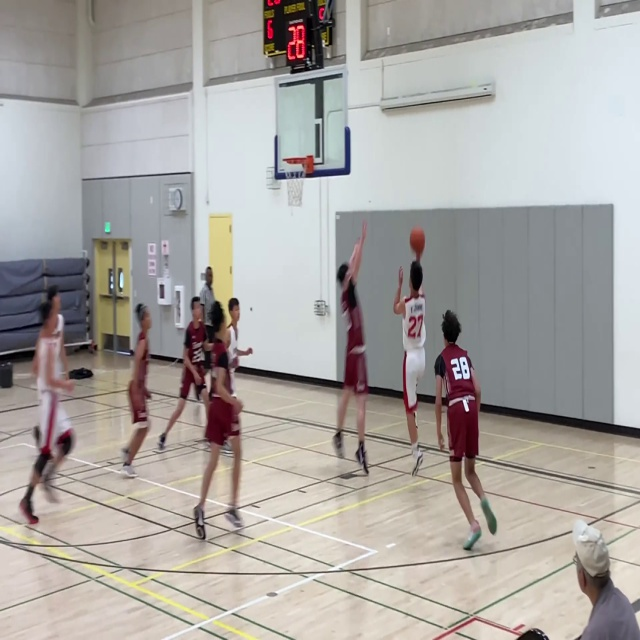Basketball: (409, 228, 425, 252)
